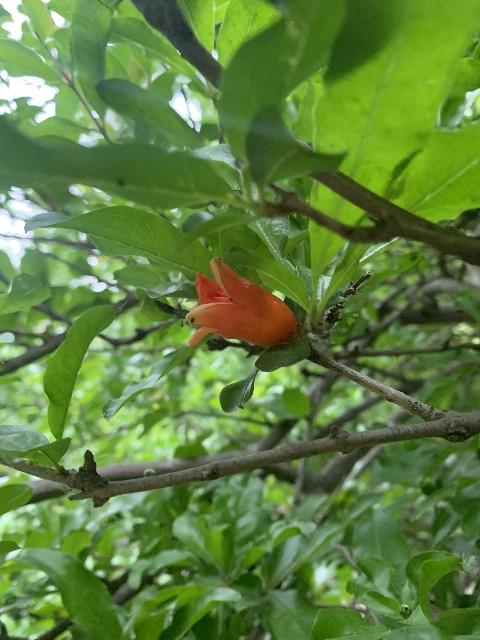flower: (186, 258, 297, 349)
